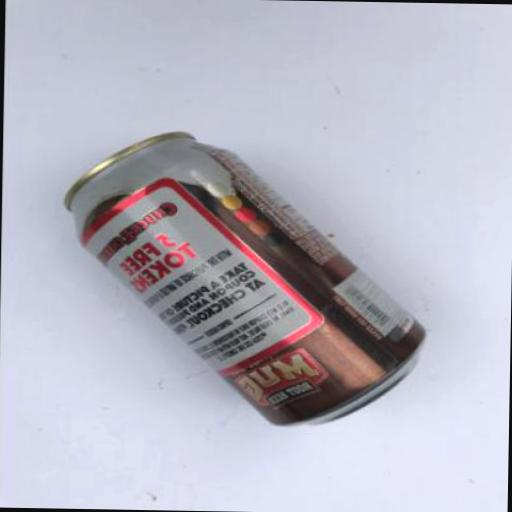metal: (58, 130, 432, 432)
